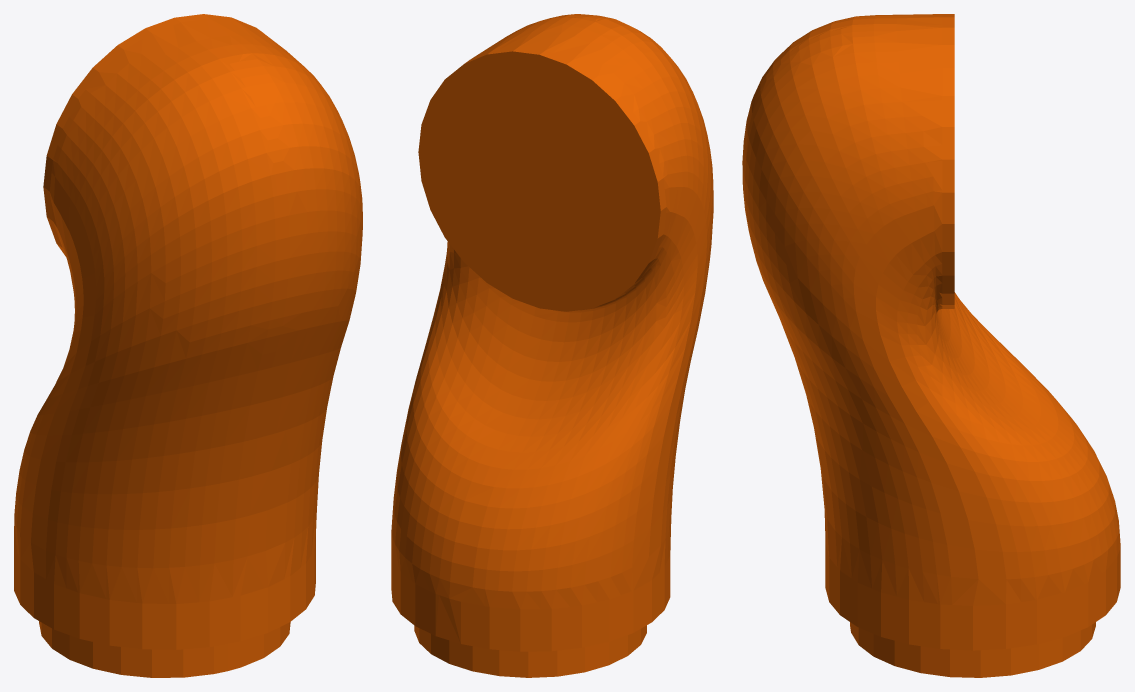
The picture shows the model from 3 angles, left to right: view 1: azimuth 30°, elevation 25°; view 2: azimuth 150°, elevation 25°; view 3: azimuth 270°, elevation 25°; orthographic projection. The views are drawn at different scales.
Visible parts, largest first — view 1: link_1; view 2: link_1; view 3: link_1.
Boxes of the visible parts, x1,y1,x2,y2 form: link_1: (14,14,362,677); link_1: (391,14,713,677); link_1: (742,14,1120,677).
Bounding box in the file's own units: 0.12 × 0.1538 × 0.2685.
